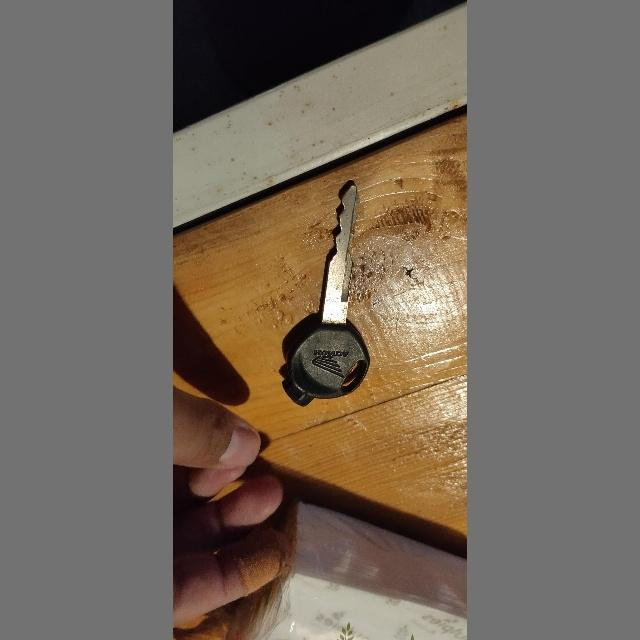Keys: (279, 178, 375, 412)
